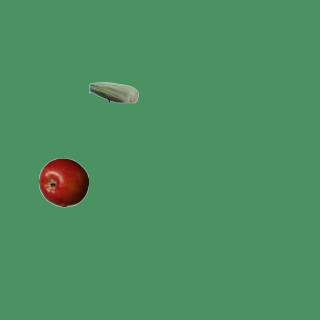Apple Braeburn: (38, 157, 88, 207)
Corn Husk: (88, 67, 138, 117)
